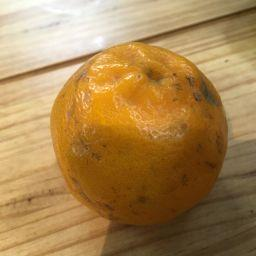Unripe: (51, 41, 228, 222)
